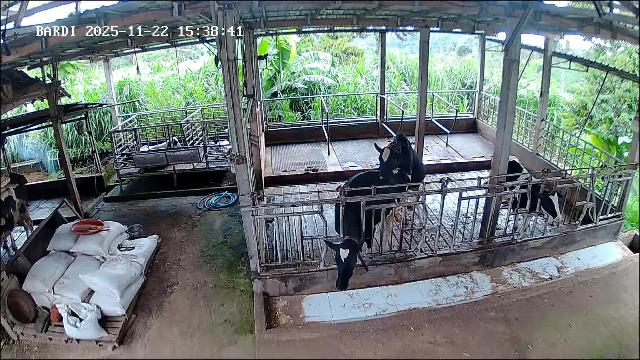mounting: (374, 133, 425, 214)
